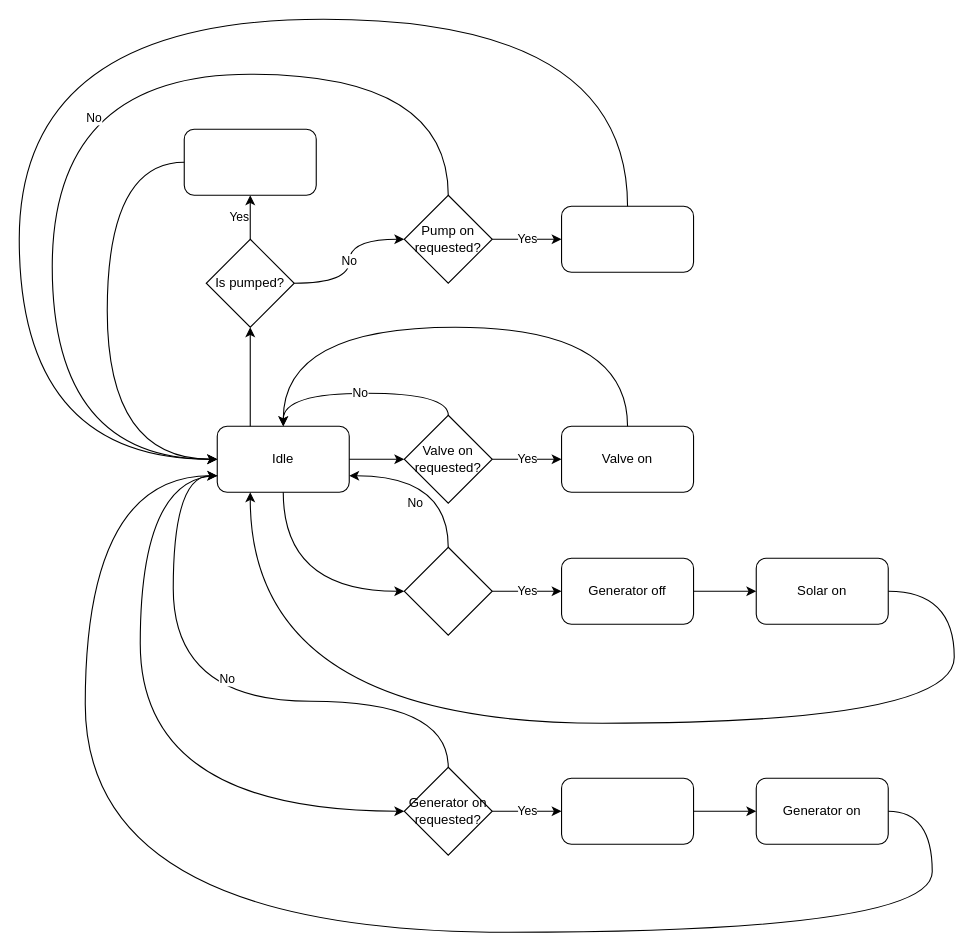
The diagram is 974 pixels wide and 952 high, and some of its shapes have lost their labels. The shapes that lost their labels are listed below. From the top down, each one's box as (x1, y1, x2, y2) in pixels, then its label:
(183, 128, 316, 195): Pump off
(560, 205, 694, 272): Pump on
(403, 546, 492, 635): Solar on requested?
(560, 777, 694, 844): Solar off
